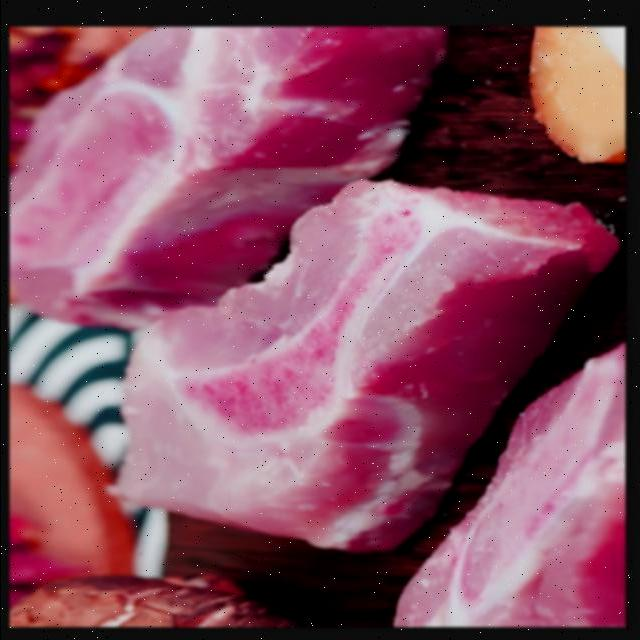pork: (122, 176, 615, 551), (9, 27, 446, 329), (398, 340, 623, 625)
